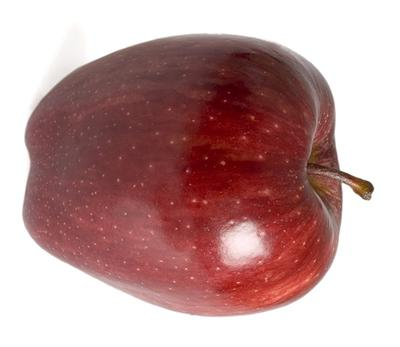apple: (0, 0, 400, 347)
